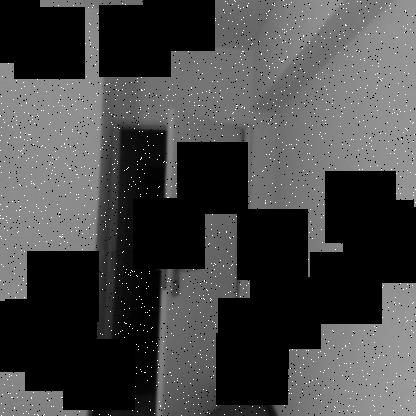Porte: (96, 106, 253, 415)
